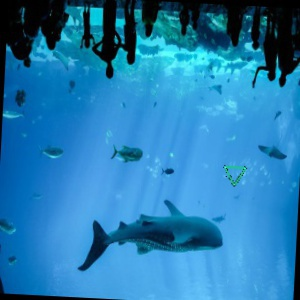triangle: (222, 163, 250, 188)
